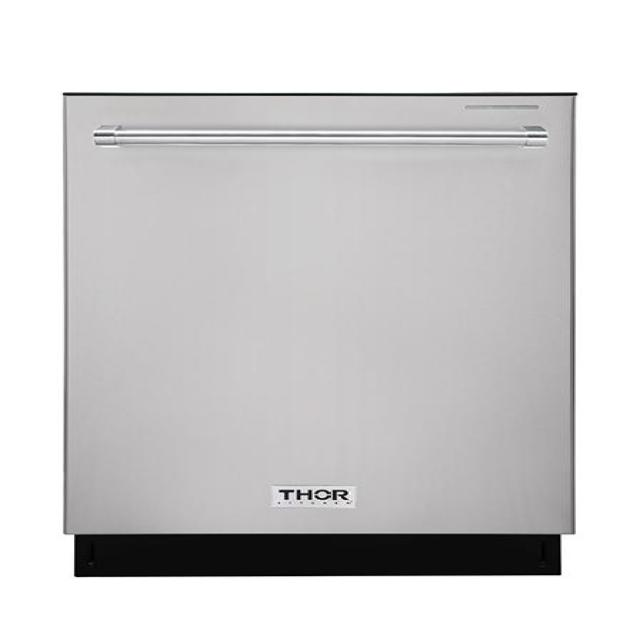dishwasher: (57, 86, 584, 578)
